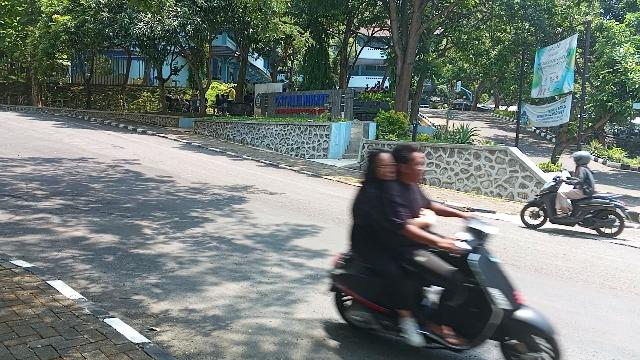helm: (573, 152, 591, 166)
motor: (331, 224, 557, 360), (521, 180, 632, 238)
non-helm: (398, 147, 426, 184), (368, 150, 398, 182)
